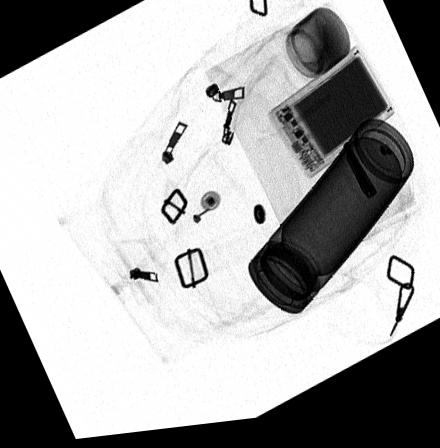Powerbank: (265, 53, 396, 187)
